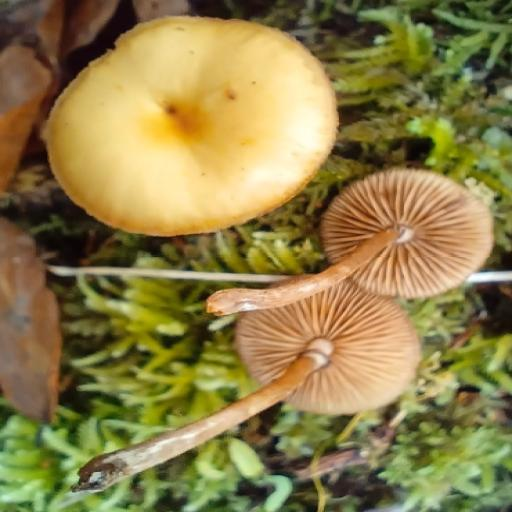mushroom: (31, 7, 342, 248), (219, 269, 447, 473), (321, 168, 503, 311)
